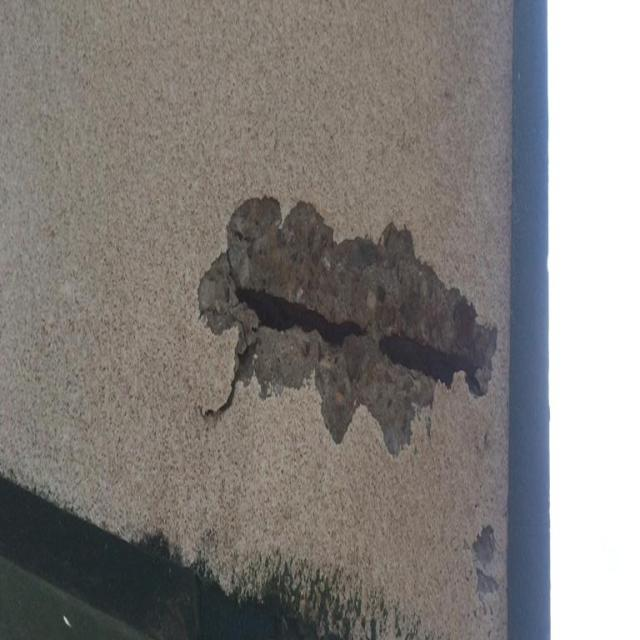spalling: (192, 193, 505, 458)
